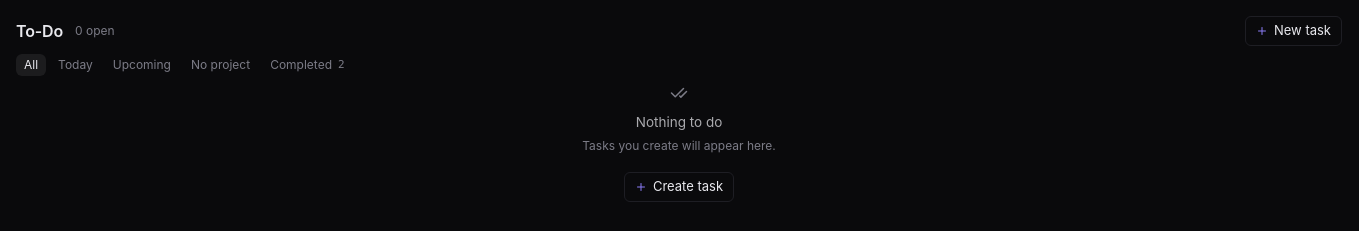
Test: TodoView Completed filter › lists the most recently finished first
Click the button "Completed 2": (307, 65) x1=262 y1=54 x2=353 y2=76
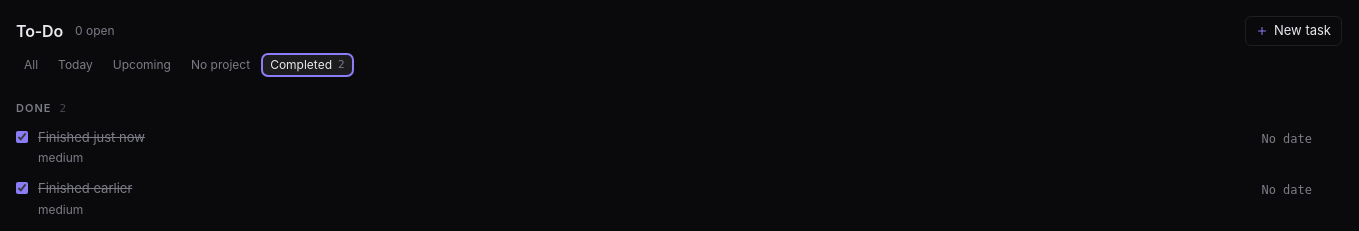
Result: the elements "Finished " read "Finished just now", "Finished earlier", in this order at x1=38 y1=128 x2=145 y2=144; x1=38 y1=180 x2=132 y2=196
